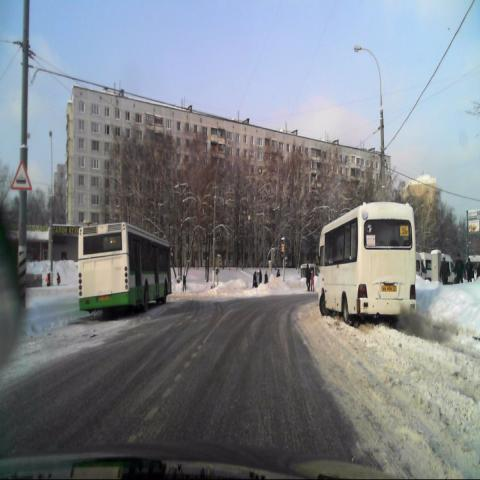1_5: (10, 160, 33, 192)
